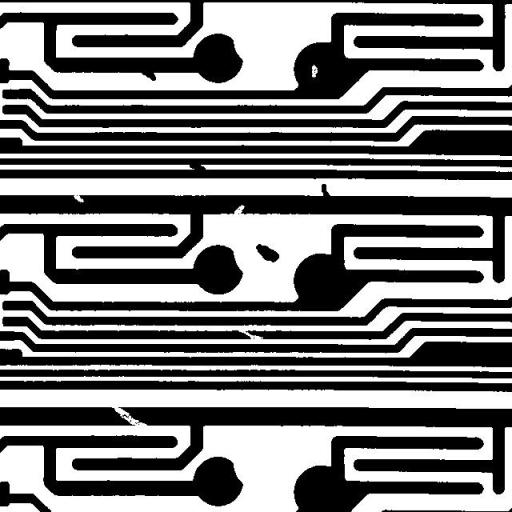copper: (248, 236, 286, 270)
mousebite: (226, 197, 252, 222), (66, 187, 91, 210)
open: (104, 398, 154, 434), (230, 322, 270, 348)
pin-hole: (304, 57, 325, 85)
short: (182, 155, 212, 179)
spur: (134, 62, 163, 88), (314, 176, 338, 206)
